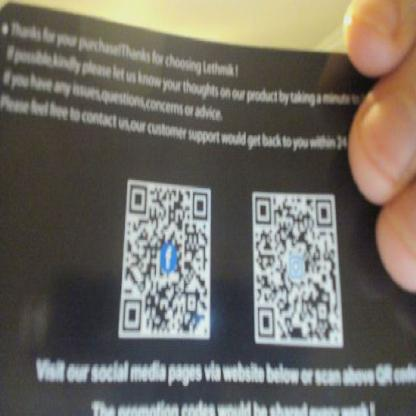qr: (113, 174, 221, 343), (244, 183, 350, 352)
